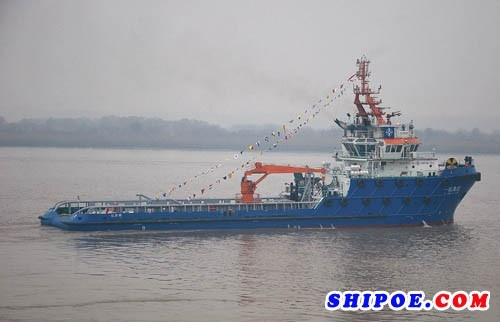Cargoship: (37, 85, 485, 233)
